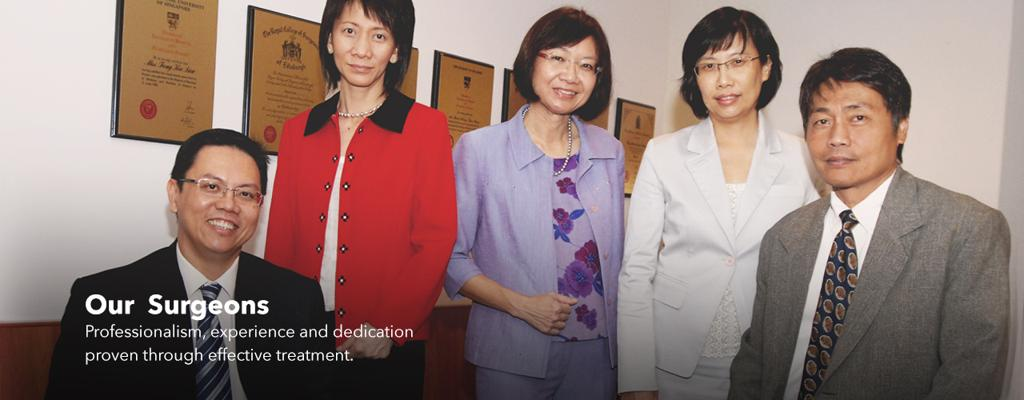face: (186, 142, 264, 250), (806, 82, 884, 182), (694, 32, 766, 120), (334, 0, 396, 84), (540, 44, 594, 108)
